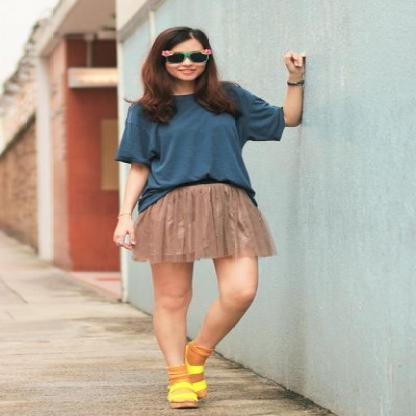shirt: (115, 78, 284, 208)
shoe: (167, 381, 205, 401)
skirt: (120, 183, 274, 274)
sunglass: (187, 42, 215, 68)
